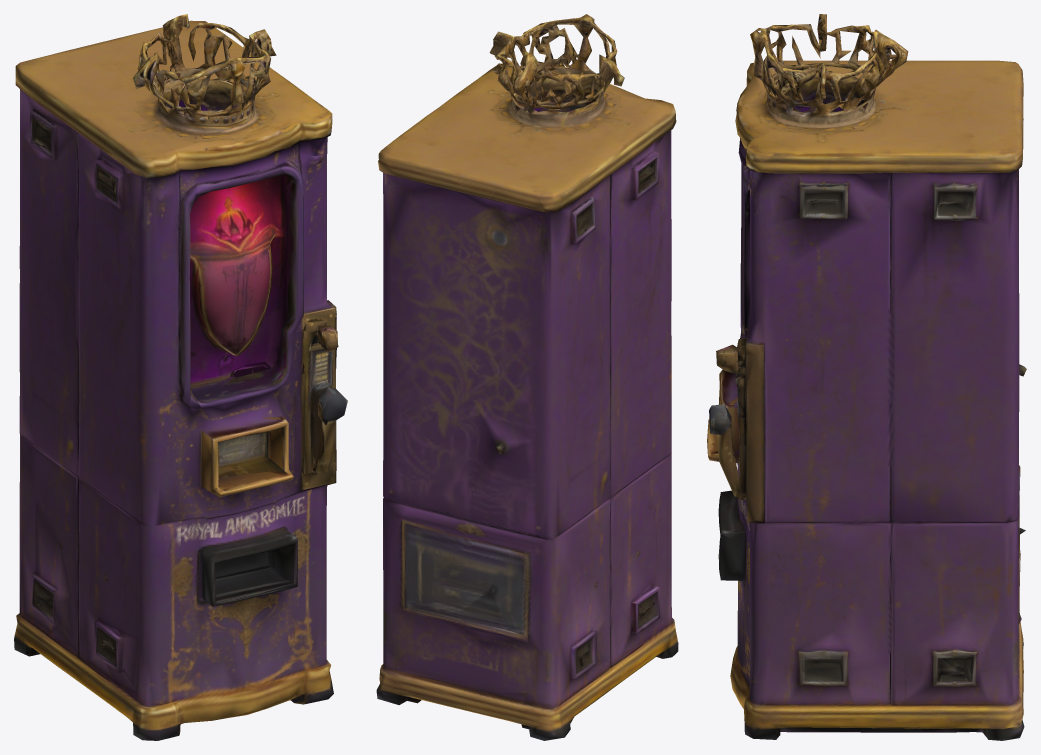
The model's file is royalArmorMachine.glb.
3 views of the same model, side by side, from view 1: azimuth 30°, elevation 25°; view 2: azimuth 150°, elevation 25°; view 3: azimuth 270°, elevation 25° (orthographic). The views are drawn at different scales.
Size of the model in its own units: 0.6244 by 1.96 by 0.8579.
Materials: 1 (1 with a texture image).
